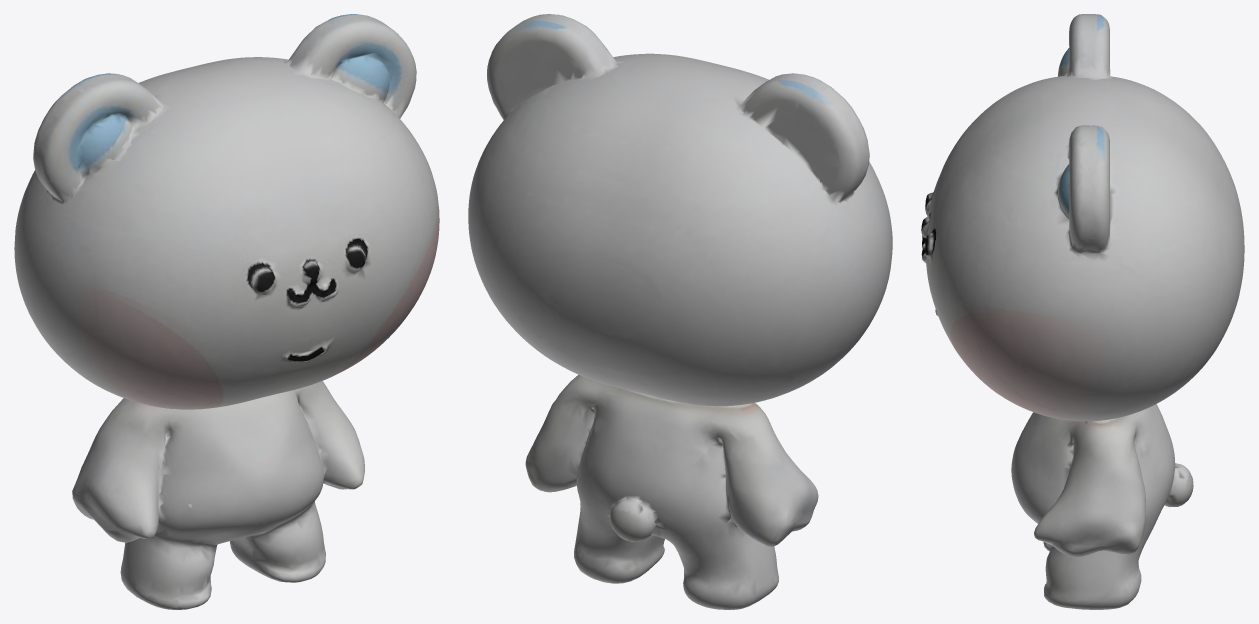
Rendered from tutor.glb.
3 views of the same model, side by side, from view 1: azimuth 30°, elevation 25°; view 2: azimuth 150°, elevation 25°; view 3: azimuth 270°, elevation 25° (orthographic). The views are drawn at different scales.
Parts seen in each view (by area): view 1: tripo_node_bd738efa-1940-4aae-a0b8-037502b6457c; view 2: tripo_node_bd738efa-1940-4aae-a0b8-037502b6457c; view 3: tripo_node_bd738efa-1940-4aae-a0b8-037502b6457c.
Boxes of the visible parts, x1,y1,x2,y2 form: tripo_node_bd738efa-1940-4aae-a0b8-037502b6457c: [14, 14, 439, 609]; tripo_node_bd738efa-1940-4aae-a0b8-037502b6457c: [468, 14, 892, 609]; tripo_node_bd738efa-1940-4aae-a0b8-037502b6457c: [921, 14, 1244, 609].
Bounding box in the file's own units: 0.7534 × 0.9999 × 0.585.
1 material, 1 textured.
